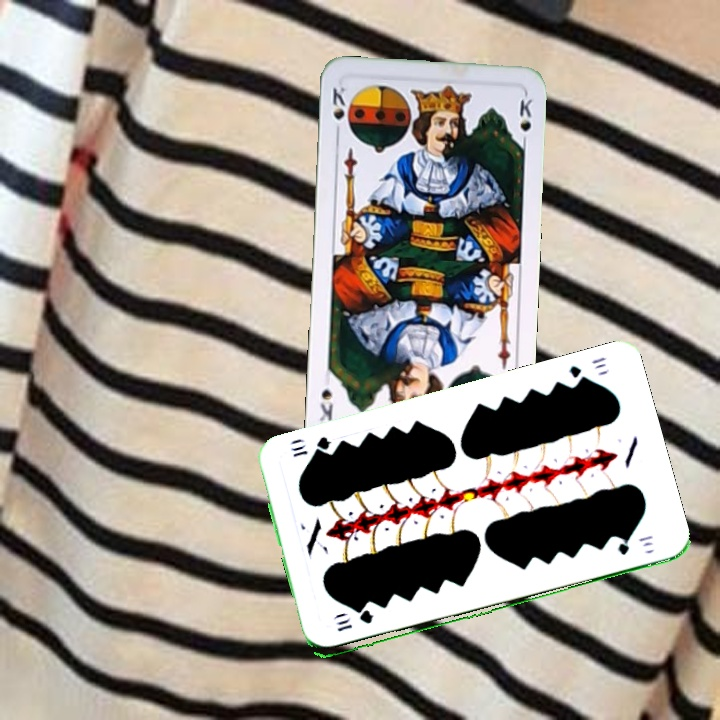G10: (565, 352, 608, 387), (333, 609, 376, 634)
SK: (328, 83, 352, 140)
